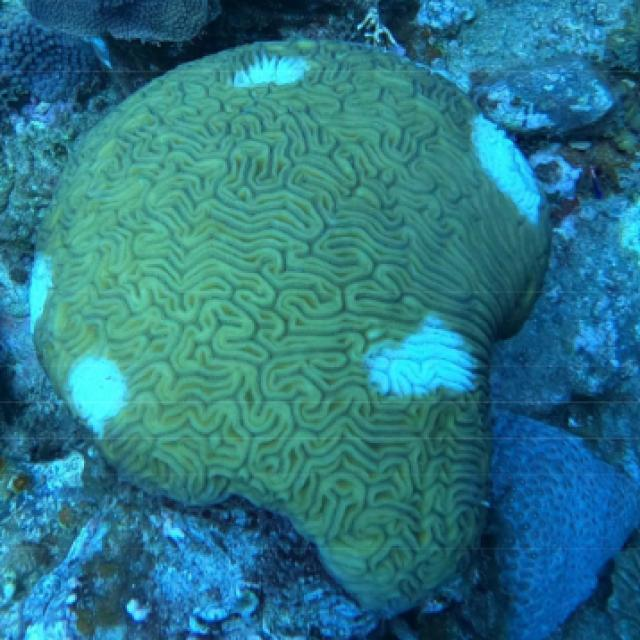Coral: (29, 38, 553, 622), (413, 405, 640, 640), (0, 0, 113, 104), (18, 0, 225, 50), (18, 0, 222, 42)
